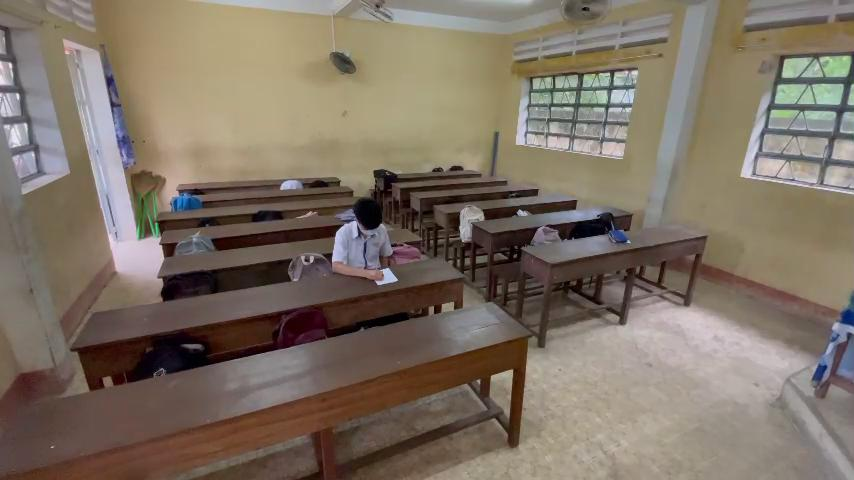Hand Under Table: (376, 225, 392, 270)
